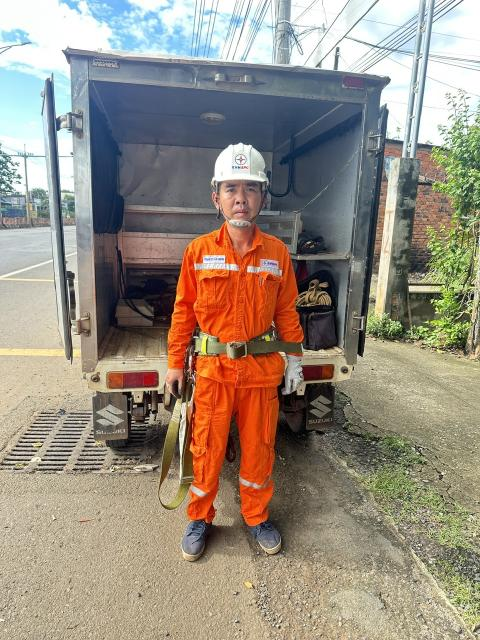gloves: (278, 347, 321, 402), (158, 365, 192, 402)
harness: (185, 321, 291, 364)
helmet: (208, 133, 281, 190)
shoes: (169, 513, 233, 564), (248, 512, 289, 561)
